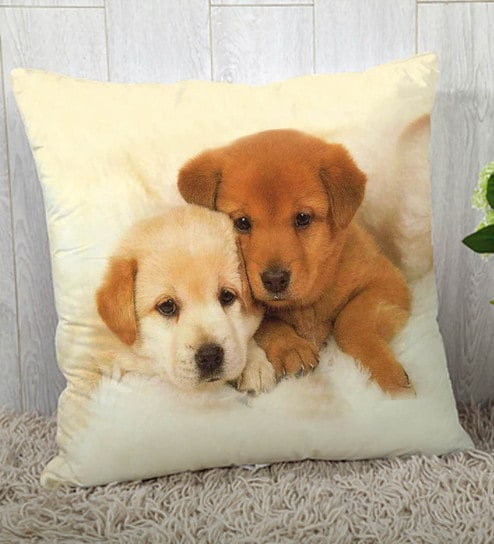dog: (187, 143, 448, 383), (99, 200, 267, 419)
